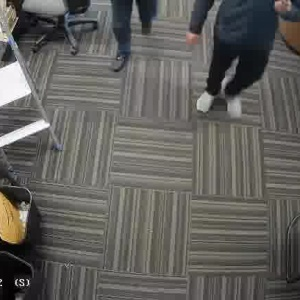person: (191, 0, 290, 110), (108, 0, 159, 76)
